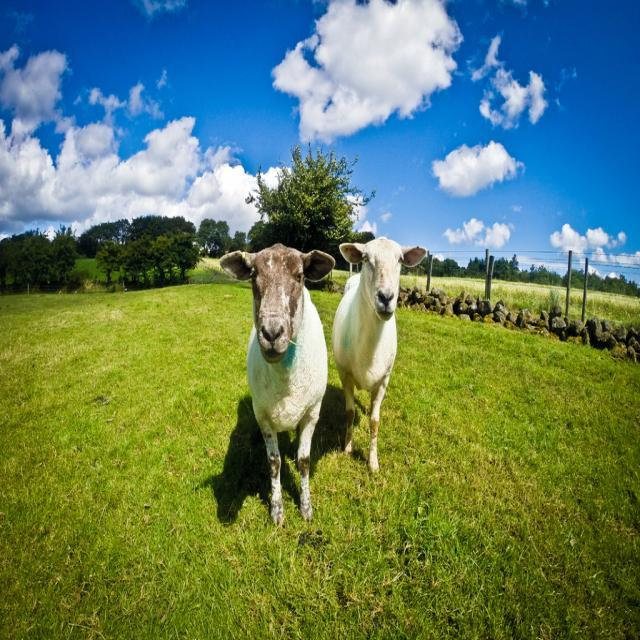Goat: (218, 242, 335, 528), (331, 235, 427, 472)
